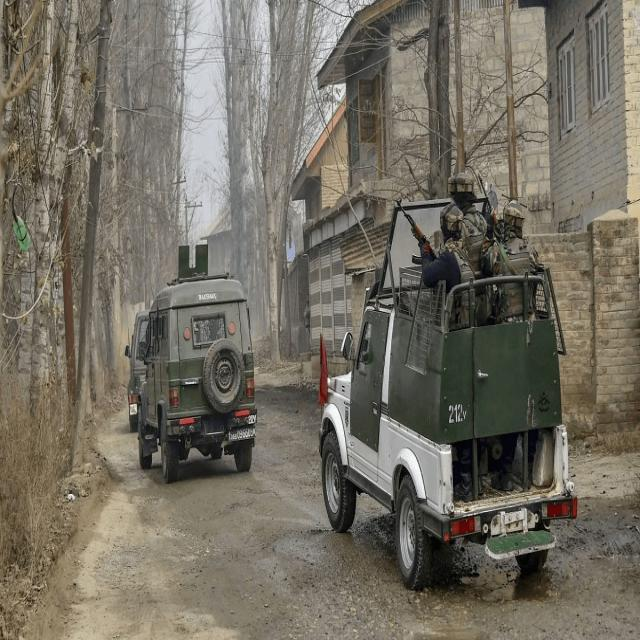military-plate: (226, 427, 258, 445)
unit number: (444, 399, 467, 427), (248, 414, 258, 424)
